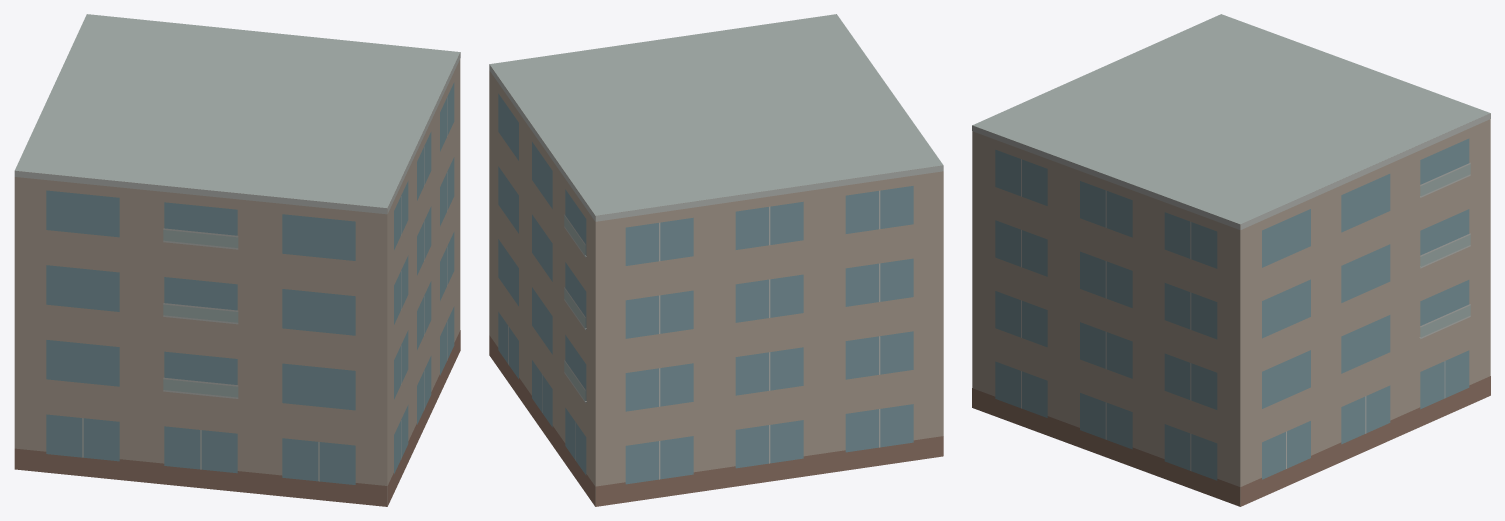
The model's file is survey-upis-32524062.glb.
3 views of the same model, side by side, from view 1: azimuth 30°, elevation 25°; view 2: azimuth 150°, elevation 25°; view 3: azimuth 270°, elevation 25° (orthographic). The views are drawn at different scales.
Parts seen in each view (by area): view 1: survey-upis-32524062.tmp; view 2: survey-upis-32524062.tmp; view 3: survey-upis-32524062.tmp.
Boxes of the visible parts, x1=… form: survey-upis-32524062.tmp: x1=14, y1=14, x2=460, y2=506; survey-upis-32524062.tmp: x1=489, y1=14, x2=943, y2=506; survey-upis-32524062.tmp: x1=972, y1=14, x2=1490, y2=506.
Size of the model in its own units: 18.89 by 11.82 by 19.67.
